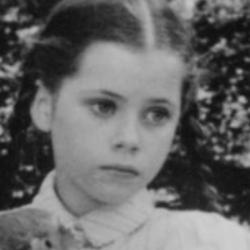face: (8, 3, 214, 217)
